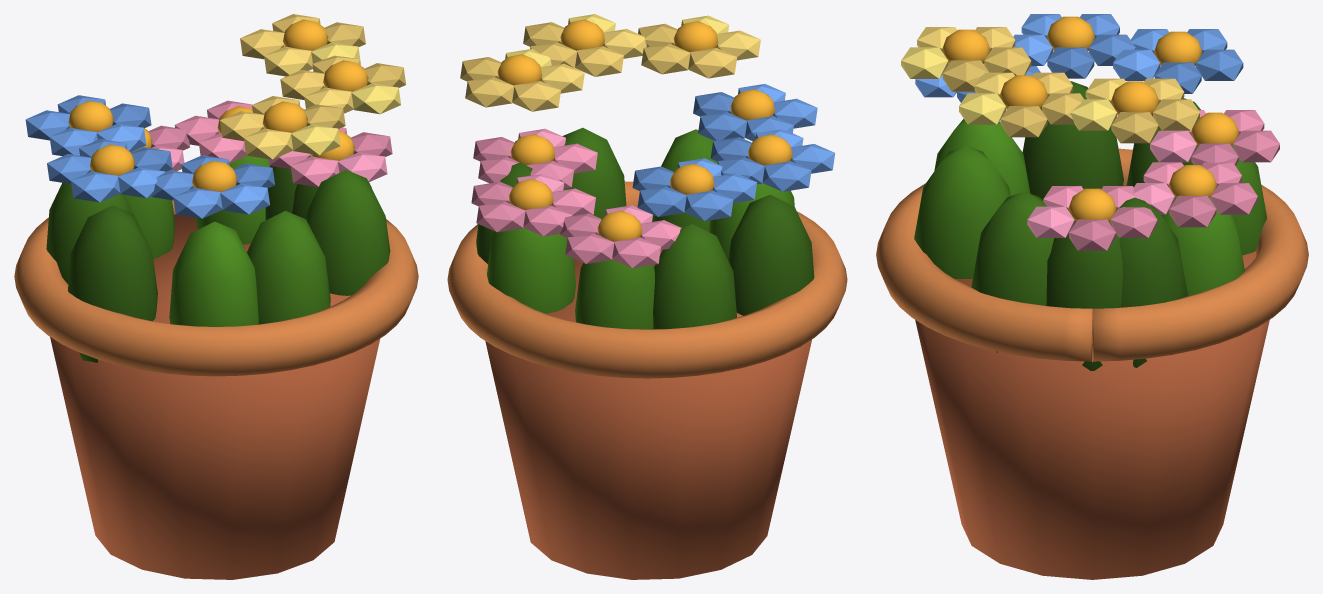
Rendered from flower-pot.glb.
3 views of the same model, side by side, from view 1: azimuth 30°, elevation 25°; view 2: azimuth 150°, elevation 25°; view 3: azimuth 270°, elevation 25° (orthographic). The views are drawn at different scales.
Parts seen in each view (by area): view 1: flower-pot; view 2: flower-pot; view 3: flower-pot.
Part boxes in pixels (x1,y1,x2,y2): flower-pot: (14, 14, 418, 579); flower-pot: (447, 14, 847, 579); flower-pot: (876, 14, 1308, 579).
Size of the model in its own units: 0.59 by 0.75 by 0.59.
